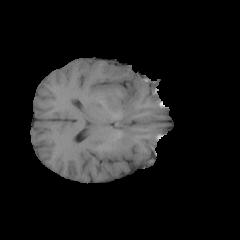glioma: (90, 67, 148, 129)
